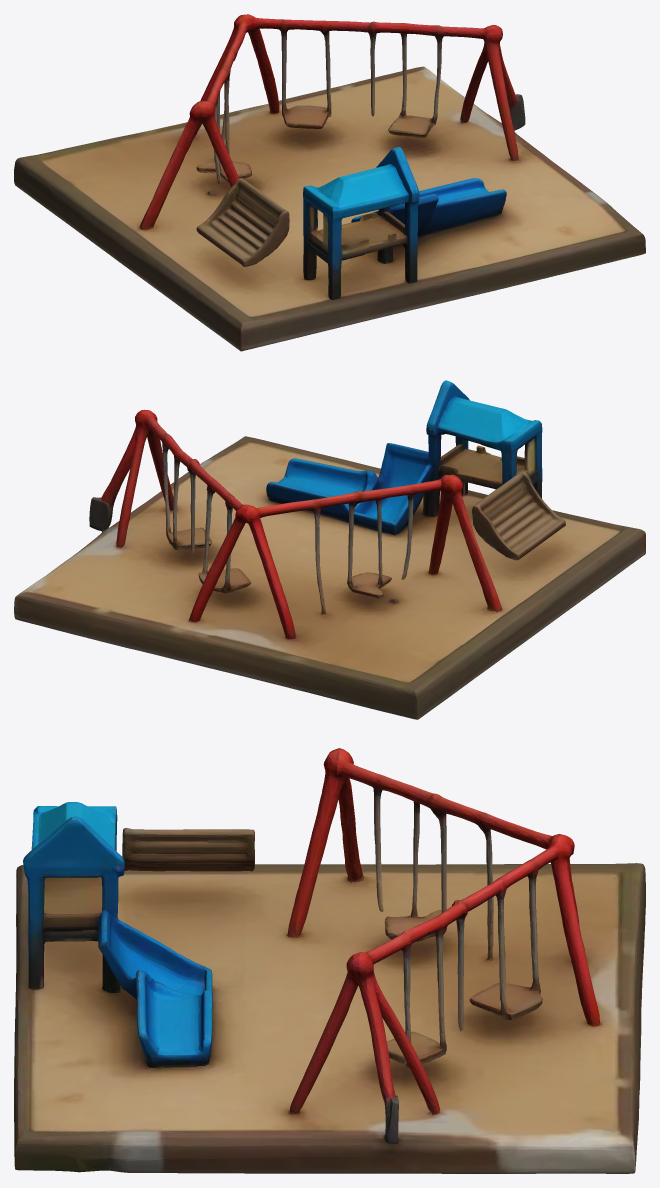
The model's file is playground.glb.
3 views of the same model, one above another, from view 1: azimuth 30°, elevation 25°; view 2: azimuth 150°, elevation 25°; view 3: azimuth 270°, elevation 25° (orthographic). The views are drawn at different scales.
Parts seen in each view (by area): view 1: world; view 2: world; view 3: world.
Boxes of the visible parts, box(x1,y1,x2,y2) form: world: box(14, 14, 645, 351); world: box(14, 380, 645, 719); world: box(14, 748, 645, 1173).
Size of the model in its own units: 0.9994 by 0.3333 by 0.9442.
1 material, 1 textured.
